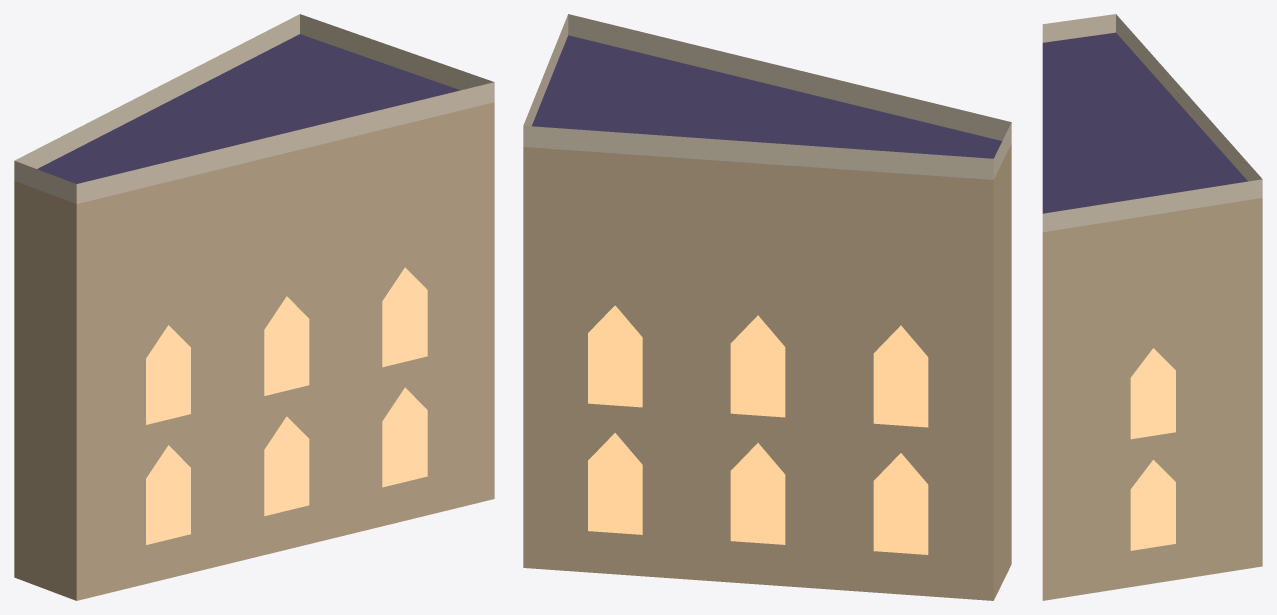
3 renders of one model, left to right at view 1: azimuth 30°, elevation 25°; view 2: azimuth 150°, elevation 25°; view 3: azimuth 270°, elevation 25°, orthographic. The views are drawn at different scales.
Visible parts, largest first — view 1: campus/b-123-0; view 2: campus/b-123-0; view 3: campus/b-123-0.
Boxes of the visible parts, <box> form: campus/b-123-0: <box>14,14,494,600</box>; campus/b-123-0: <box>523,14,1011,600</box>; campus/b-123-0: <box>1042,14,1262,600</box>.
Bounding box in the file's own units: 12.67 × 11.45 × 5.96.
